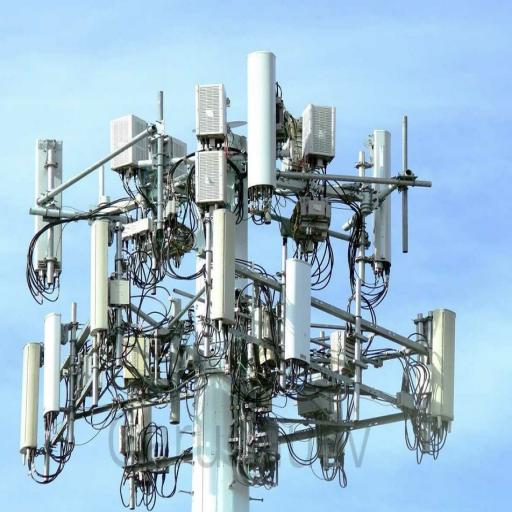monopole_tower: (22, 121, 248, 512)
